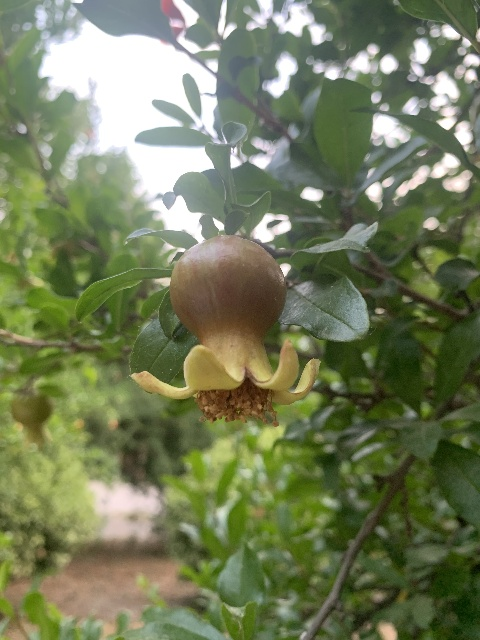early-fruit: (130, 234, 326, 427)
mid-growth: (9, 393, 53, 450)
